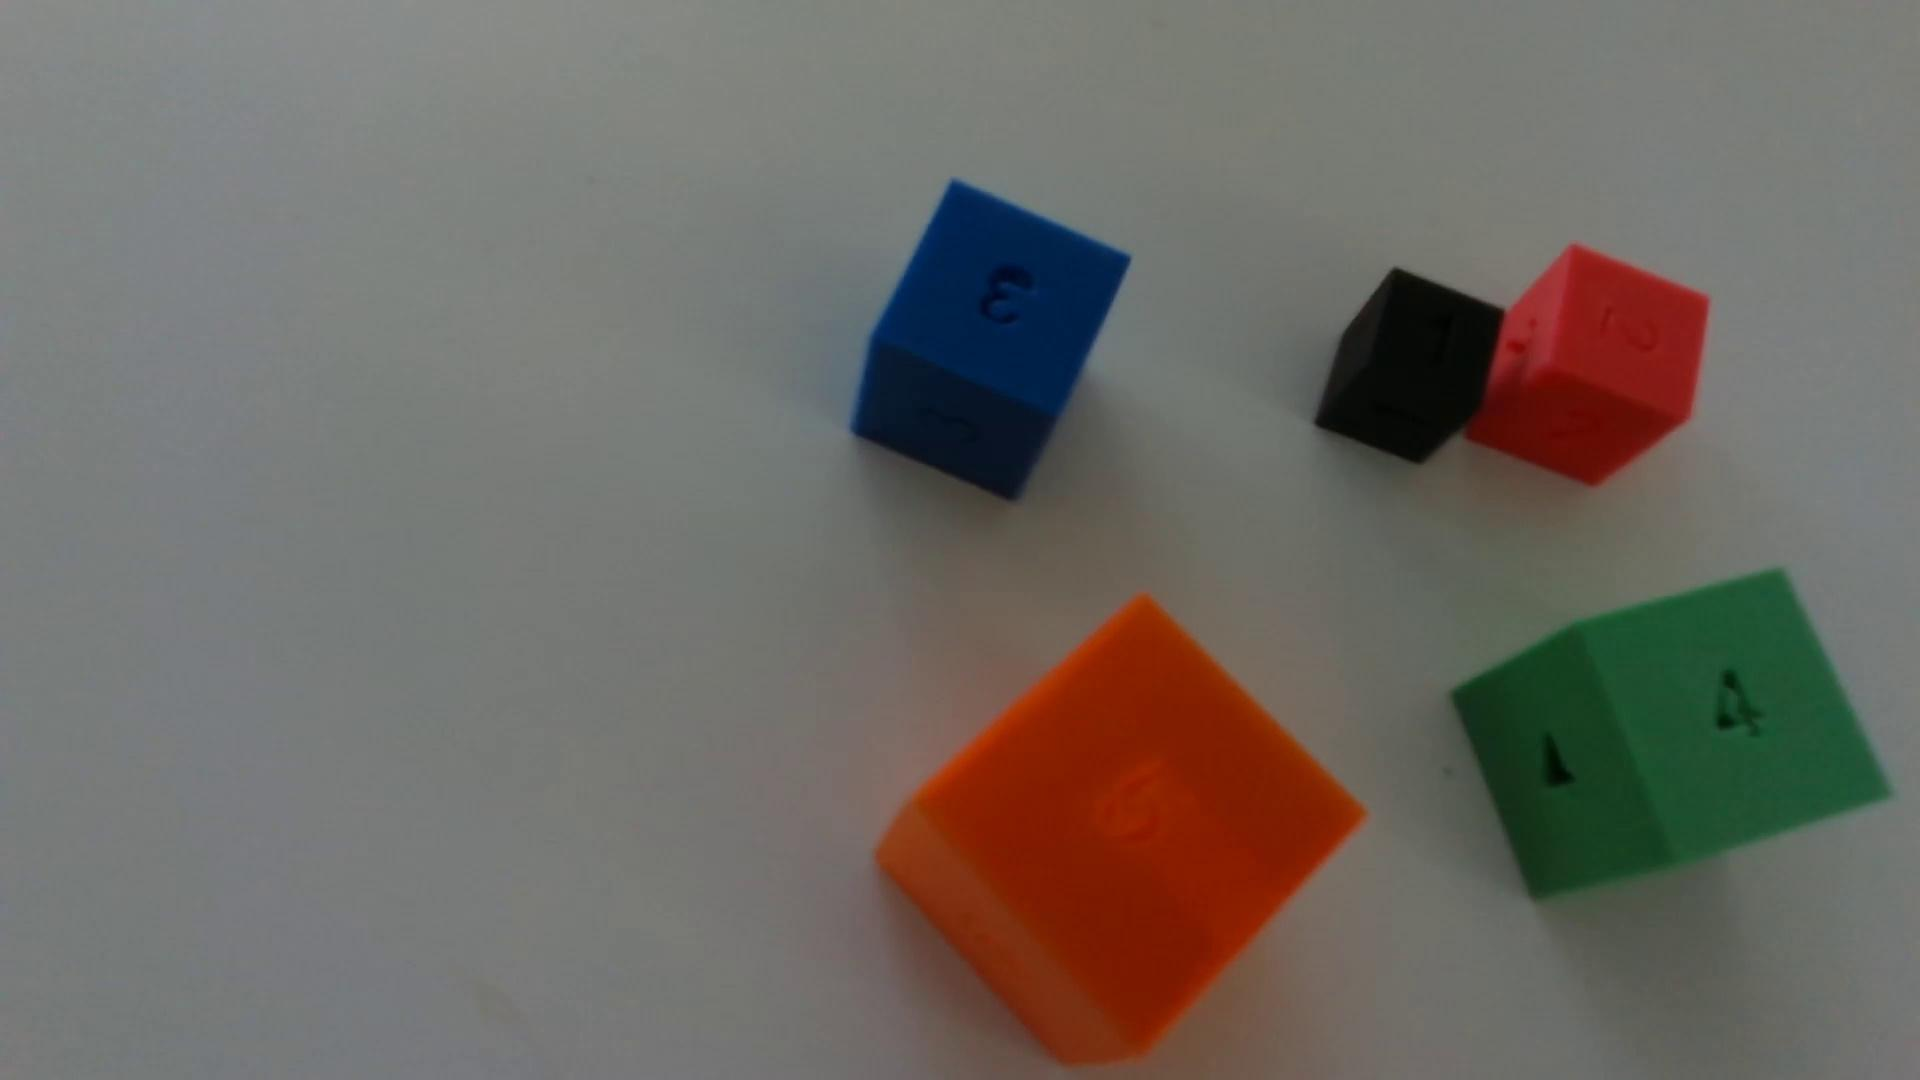black: (1315, 269, 1503, 464)
blue: (852, 183, 1129, 498)
green: (1452, 571, 1888, 899)
orange: (877, 597, 1364, 1065)
red: (1466, 247, 1708, 487)
